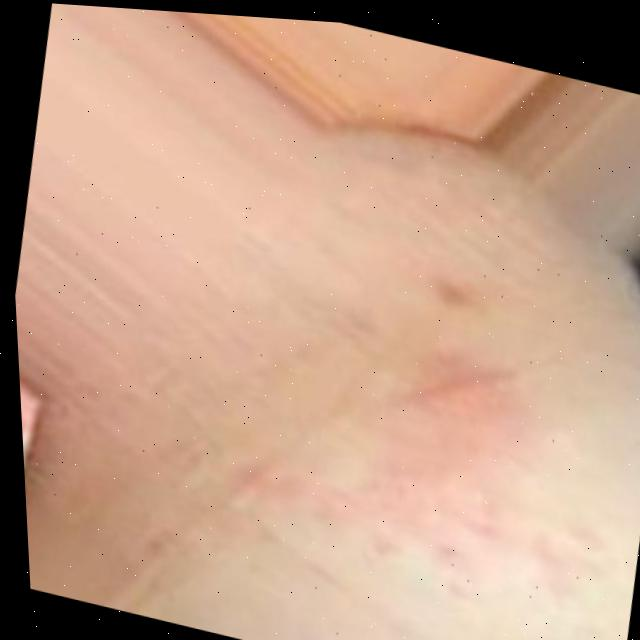Shingles: (295, 315, 555, 612)
